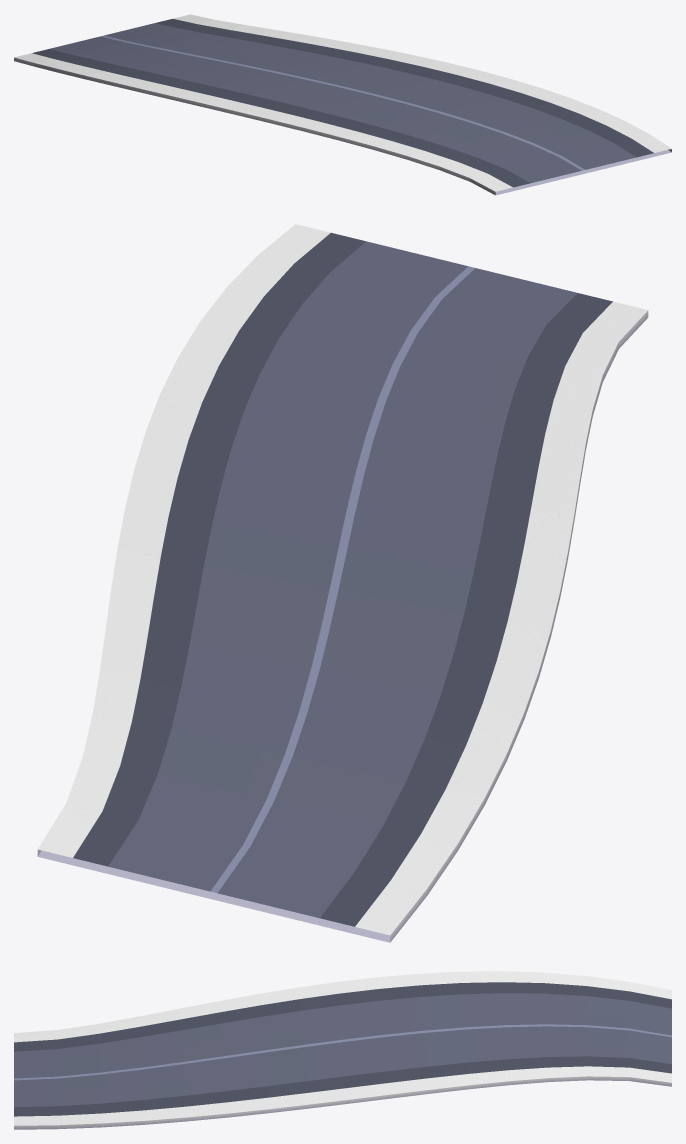
File: road-Chicane-Flat-BiSlopeDown-Down1-Left1-Size3.glb
3 views of the same model, one above another, from view 1: azimuth 30°, elevation 25°; view 2: azimuth 150°, elevation 25°; view 3: azimuth 270°, elevation 25° (orthographic). The views are drawn at different scales.
Parts seen in each view (by area): view 1: road-Chicane-Flat-BiSlopeDown-Down1-Left1-Size3; view 2: road-Chicane-Flat-BiSlopeDown-Down1-Left1-Size3; view 3: road-Chicane-Flat-BiSlopeDown-Down1-Left1-Size3.
Boxes of the visible parts, x1,y1,x2,y2 form: road-Chicane-Flat-BiSlopeDown-Down1-Left1-Size3: (14,14,671,195); road-Chicane-Flat-BiSlopeDown-Down1-Left1-Size3: (37,224,648,942); road-Chicane-Flat-BiSlopeDown-Down1-Left1-Size3: (14,971,671,1129).
Bounding box in the file's own units: 2 × 0.2738 × 3.
1 material, 1 textured.
